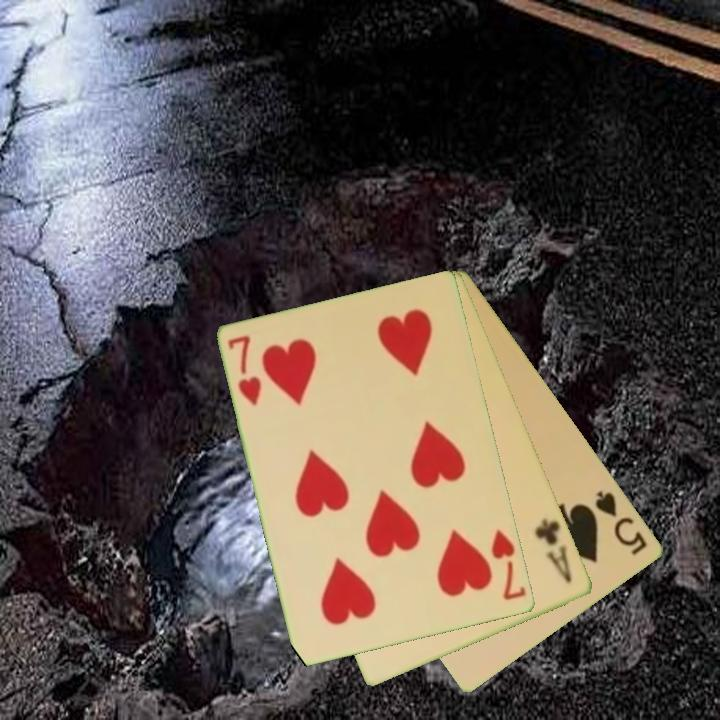5s: (592, 487, 651, 559)
7h: (488, 525, 530, 604), (224, 332, 265, 409)
Ac: (531, 515, 576, 586)
